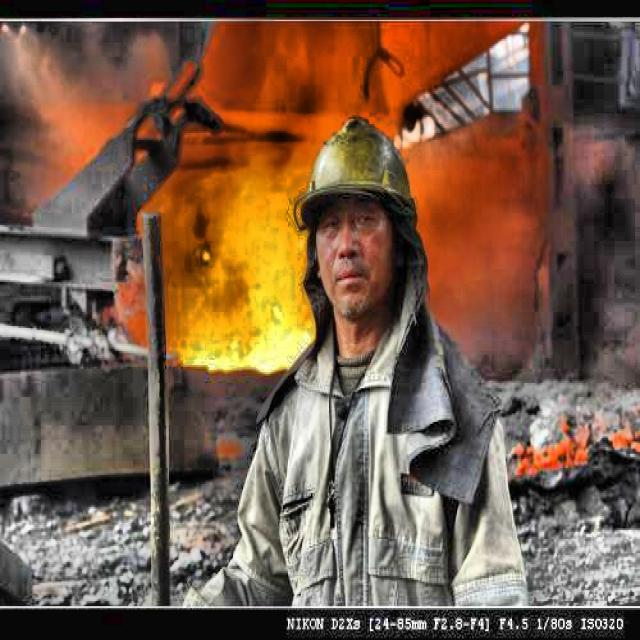helmet: (286, 102, 418, 338)
